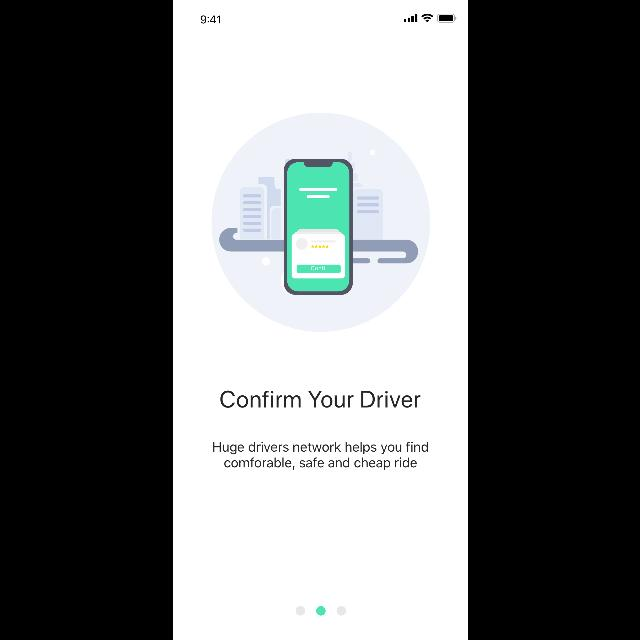image: (210, 114, 430, 332)
pageindicator: (294, 606, 346, 616)
text: (212, 442, 428, 470), (220, 390, 420, 408)
uppertaskbar: (200, 14, 456, 24)
